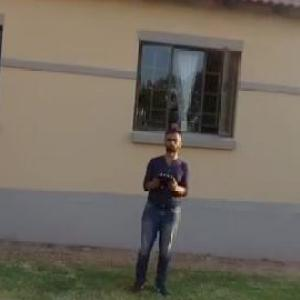follow: (127, 120, 192, 299)
